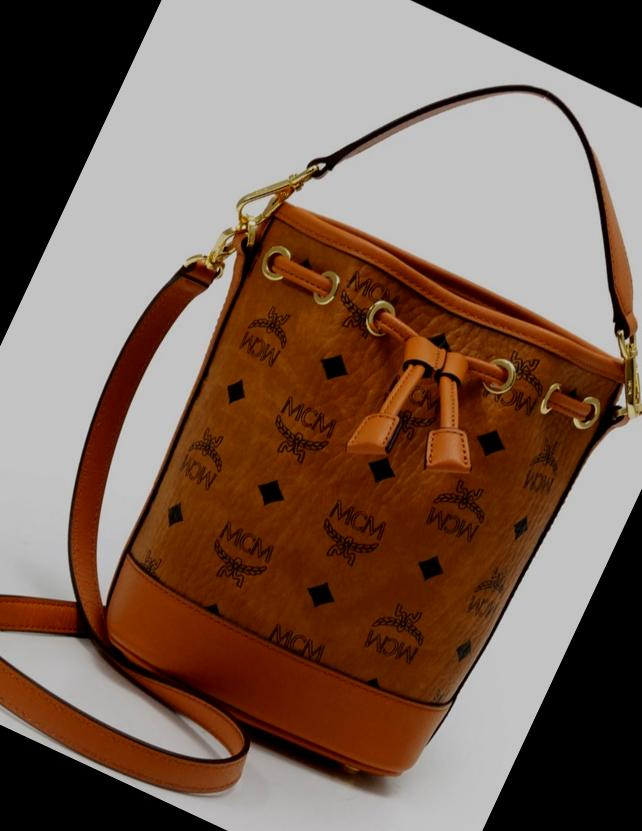MCM: (113, 206, 615, 721)
